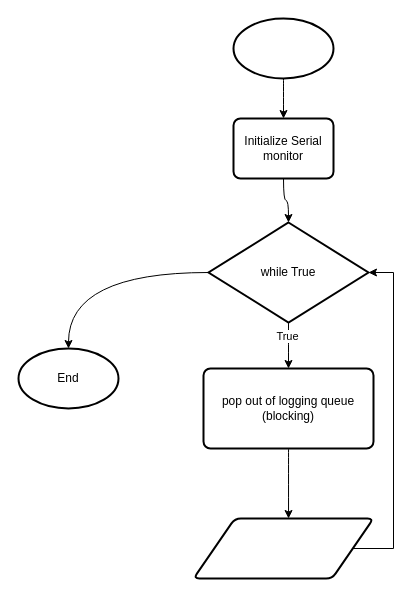
This 419x596 diagram has some shape labels left out. Each missing label, with the box of its shape:
print to serial: (192, 517, 374, 579)
Start: (232, 17, 334, 79)
